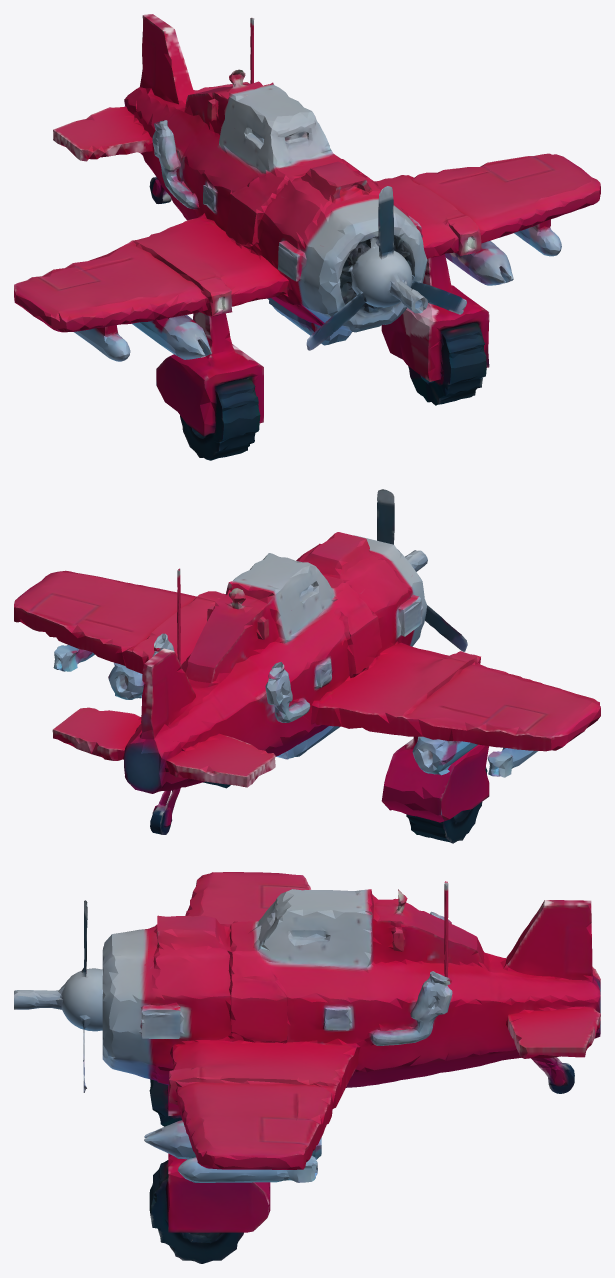
Rendered from PlaneDrone.fbx.
3 renders of one model, top to bottom at view 1: azimuth 30°, elevation 25°; view 2: azimuth 150°, elevation 25°; view 3: azimuth 270°, elevation 25°, orthographic. The views are drawn at different scales.
Parts seen in each view (by area): view 1: PlaneDroneRaw; view 2: PlaneDroneRaw; view 3: PlaneDroneRaw.
Part boxes in pixels (box(x1,y1,x2,y2)): PlaneDroneRaw: box(14, 14, 600, 460); PlaneDroneRaw: box(14, 489, 600, 843); PlaneDroneRaw: box(14, 872, 600, 1263).
Bounding box in the file's own units: 0.22 × 0.12 × 0.1914.
1 material, 1 textured.
